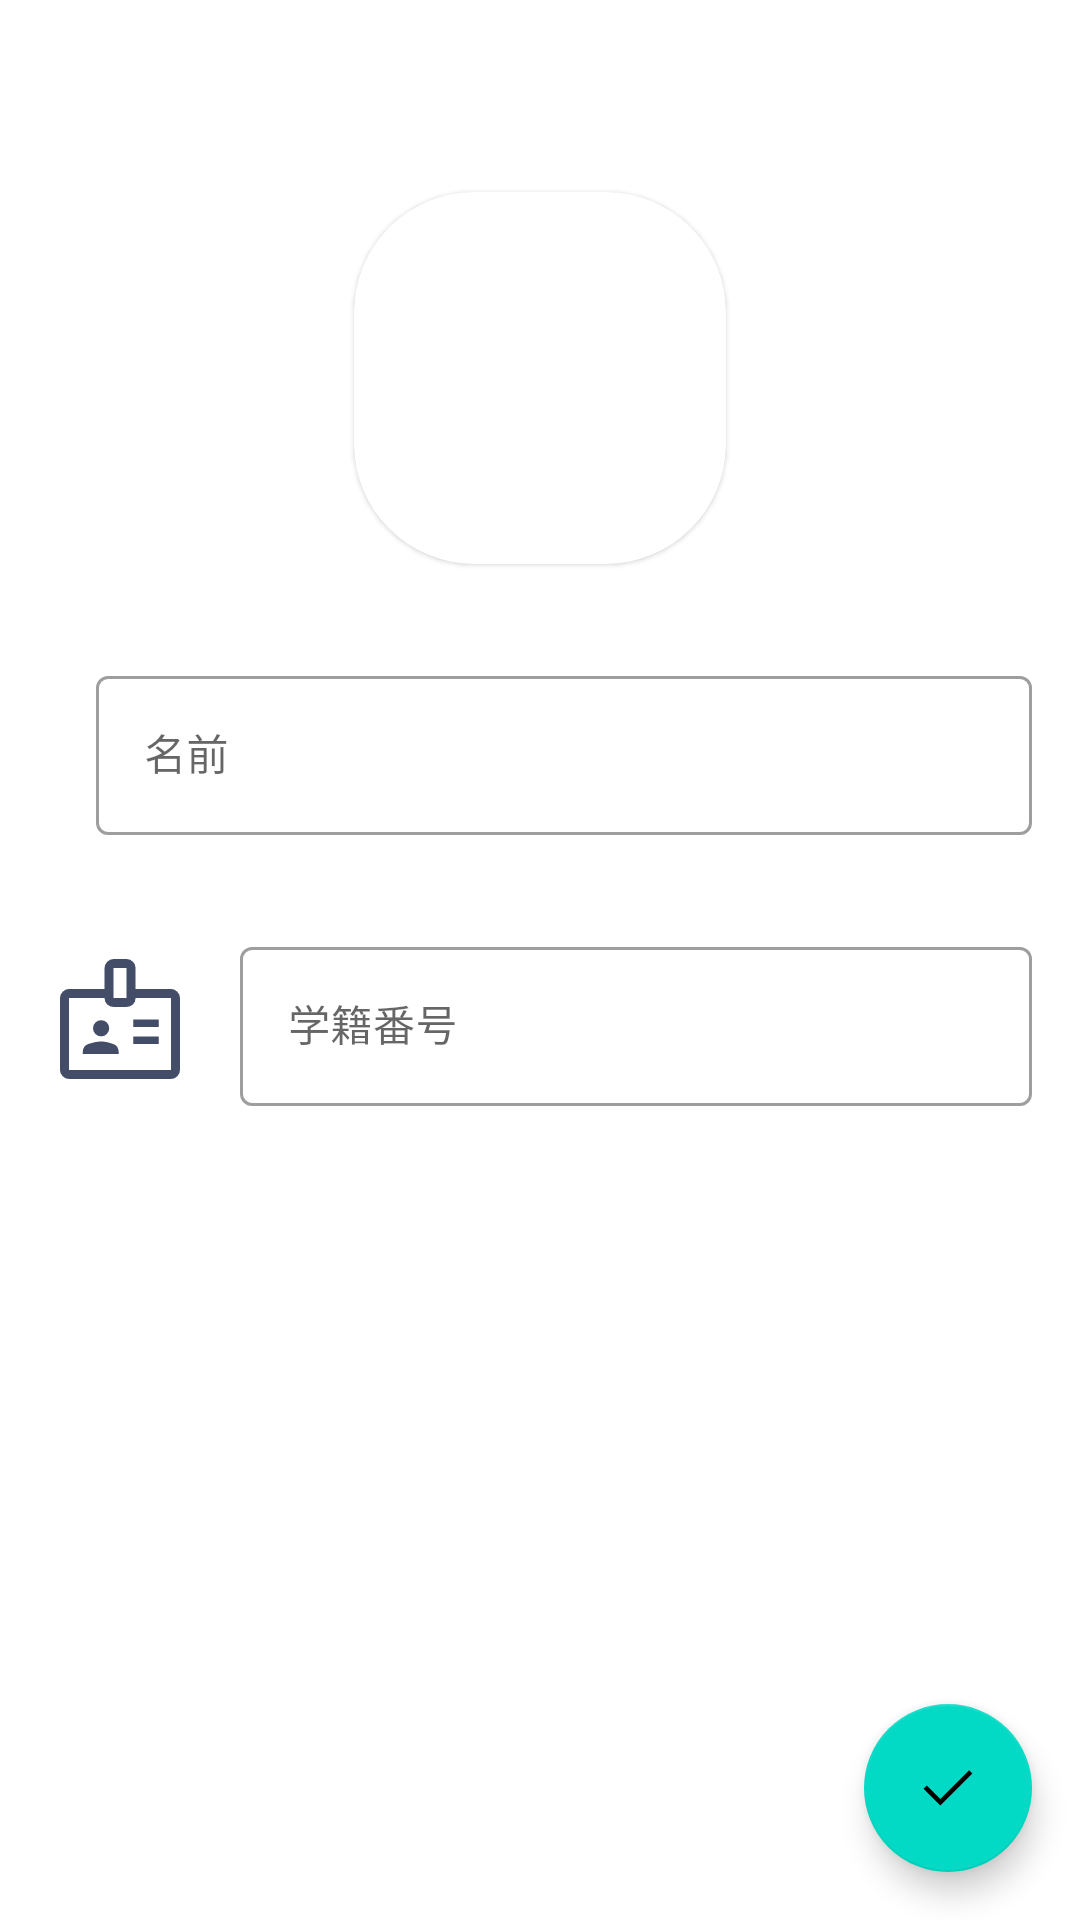

Icon click points for this 1080 × 1920 phone screenshot, format point (x, y):
badge: point (120, 1019)
done: point (948, 1788)
